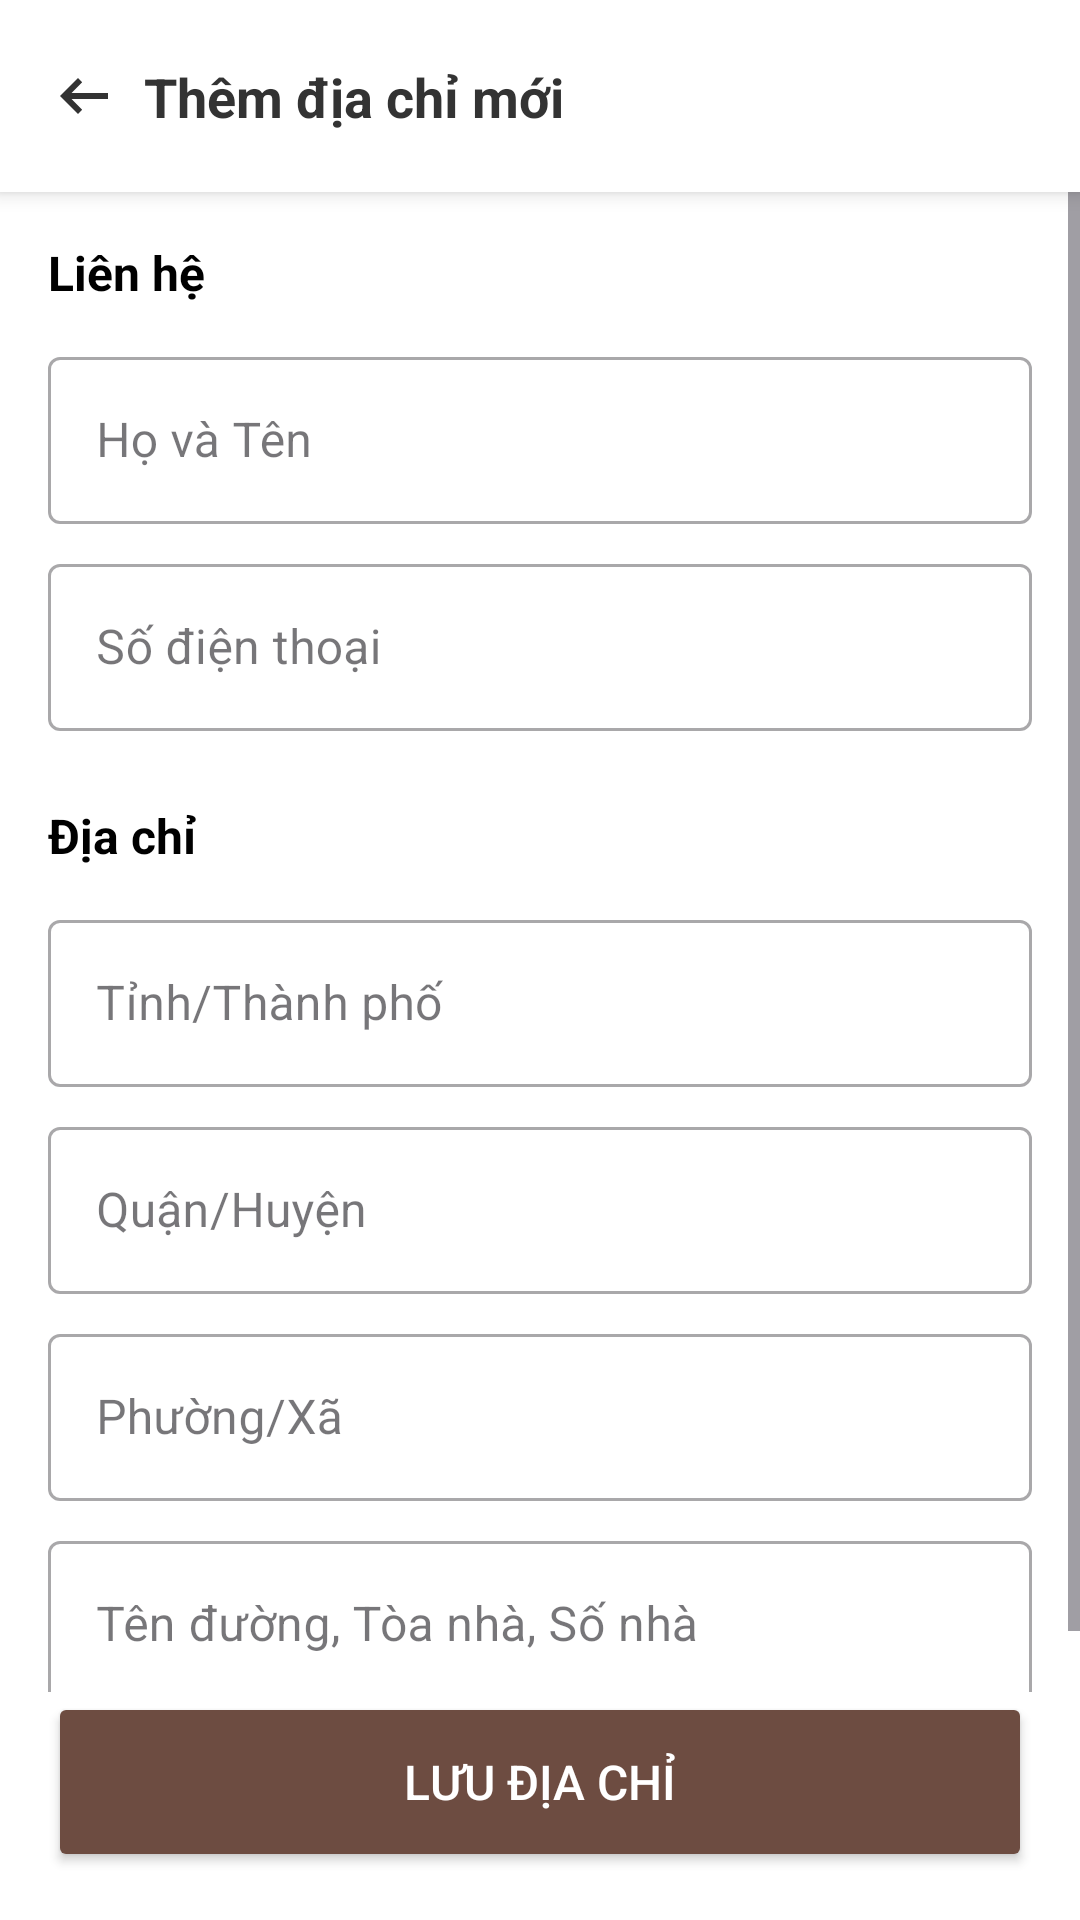

Where to tap for icons on this 1080px×1920px app screen, as point (x, y):
arrow back: point (84, 96)
